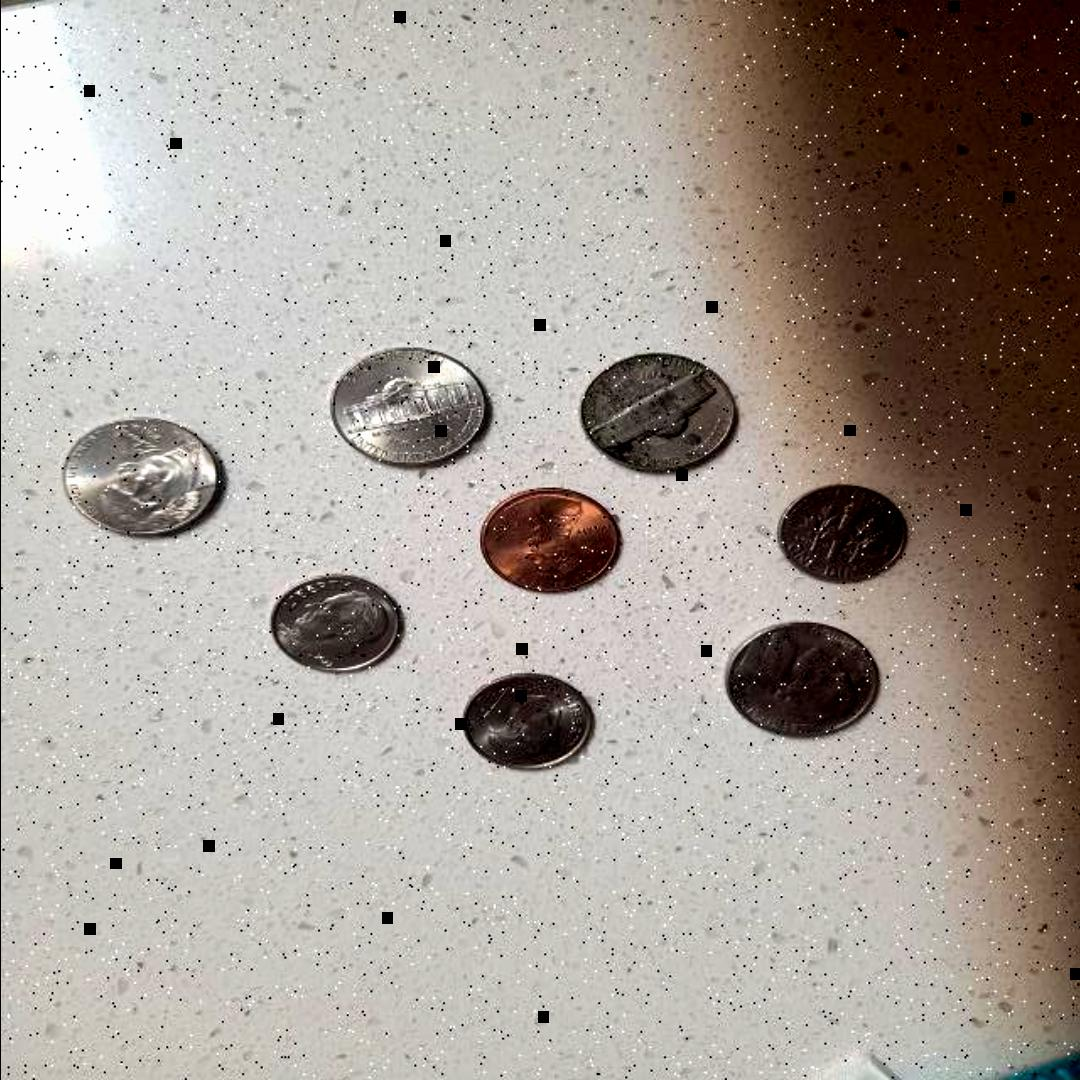Dime: (453, 667, 608, 776), (772, 480, 918, 590), (269, 567, 417, 675)
Nickel: (52, 410, 242, 546), (318, 342, 502, 476), (714, 616, 892, 744), (577, 350, 745, 478)
Penny: (478, 483, 631, 599)
